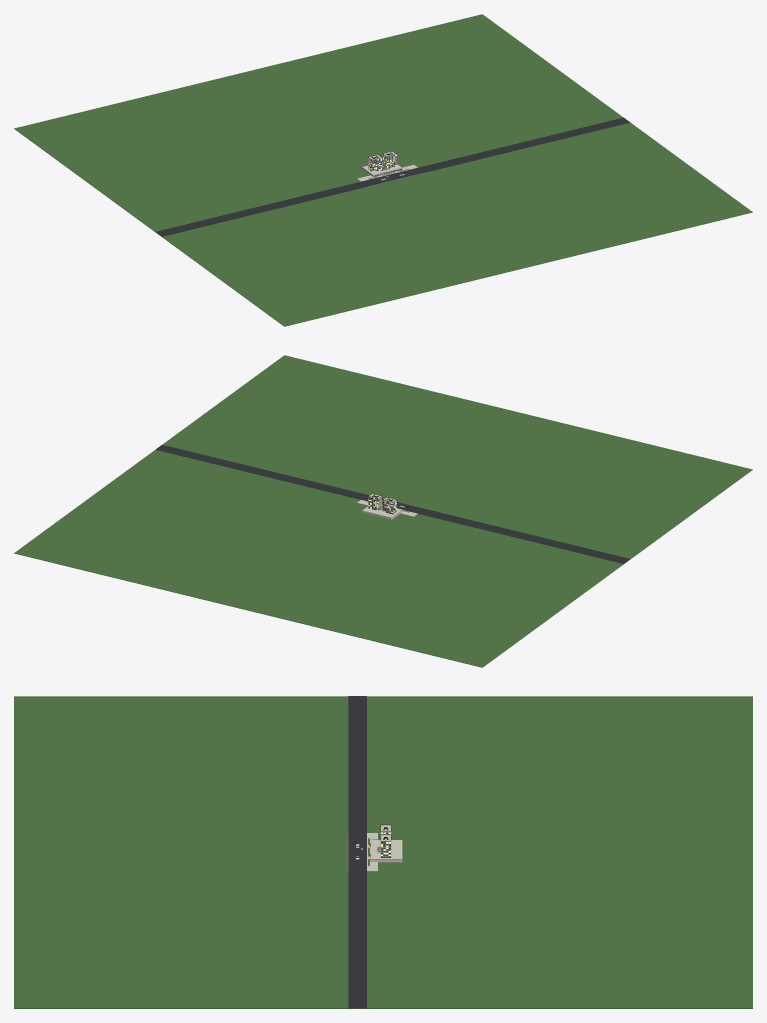
Rendered from shattyq_complex.glb.
3 renders of one model, top to bottom at view 1: azimuth 30°, elevation 25°; view 2: azimuth 150°, elevation 25°; view 3: azimuth 270°, elevation 25°, orthographic. The views are drawn at different scales.
Parts seen in each view (by area): view 1: Architecture_grass, Architecture_asphalt; view 2: Architecture_grass, Architecture_asphalt; view 3: Architecture_grass, Architecture_asphalt, Architecture_paving.
Boxes of the visible parts, bbox=[...] form: Architecture_grass: bbox=[14, 14, 752, 326]; Architecture_asphalt: bbox=[156, 117, 630, 236]; Architecture_grass: bbox=[14, 355, 752, 667]; Architecture_asphalt: bbox=[155, 444, 629, 563]; Architecture_grass: bbox=[14, 696, 752, 1008]; Architecture_asphalt: bbox=[348, 696, 366, 1008]; Architecture_paving: bbox=[367, 833, 401, 871].
Size of what is drawn, in the model's own units: 1200 by 37.5 by 1200.
